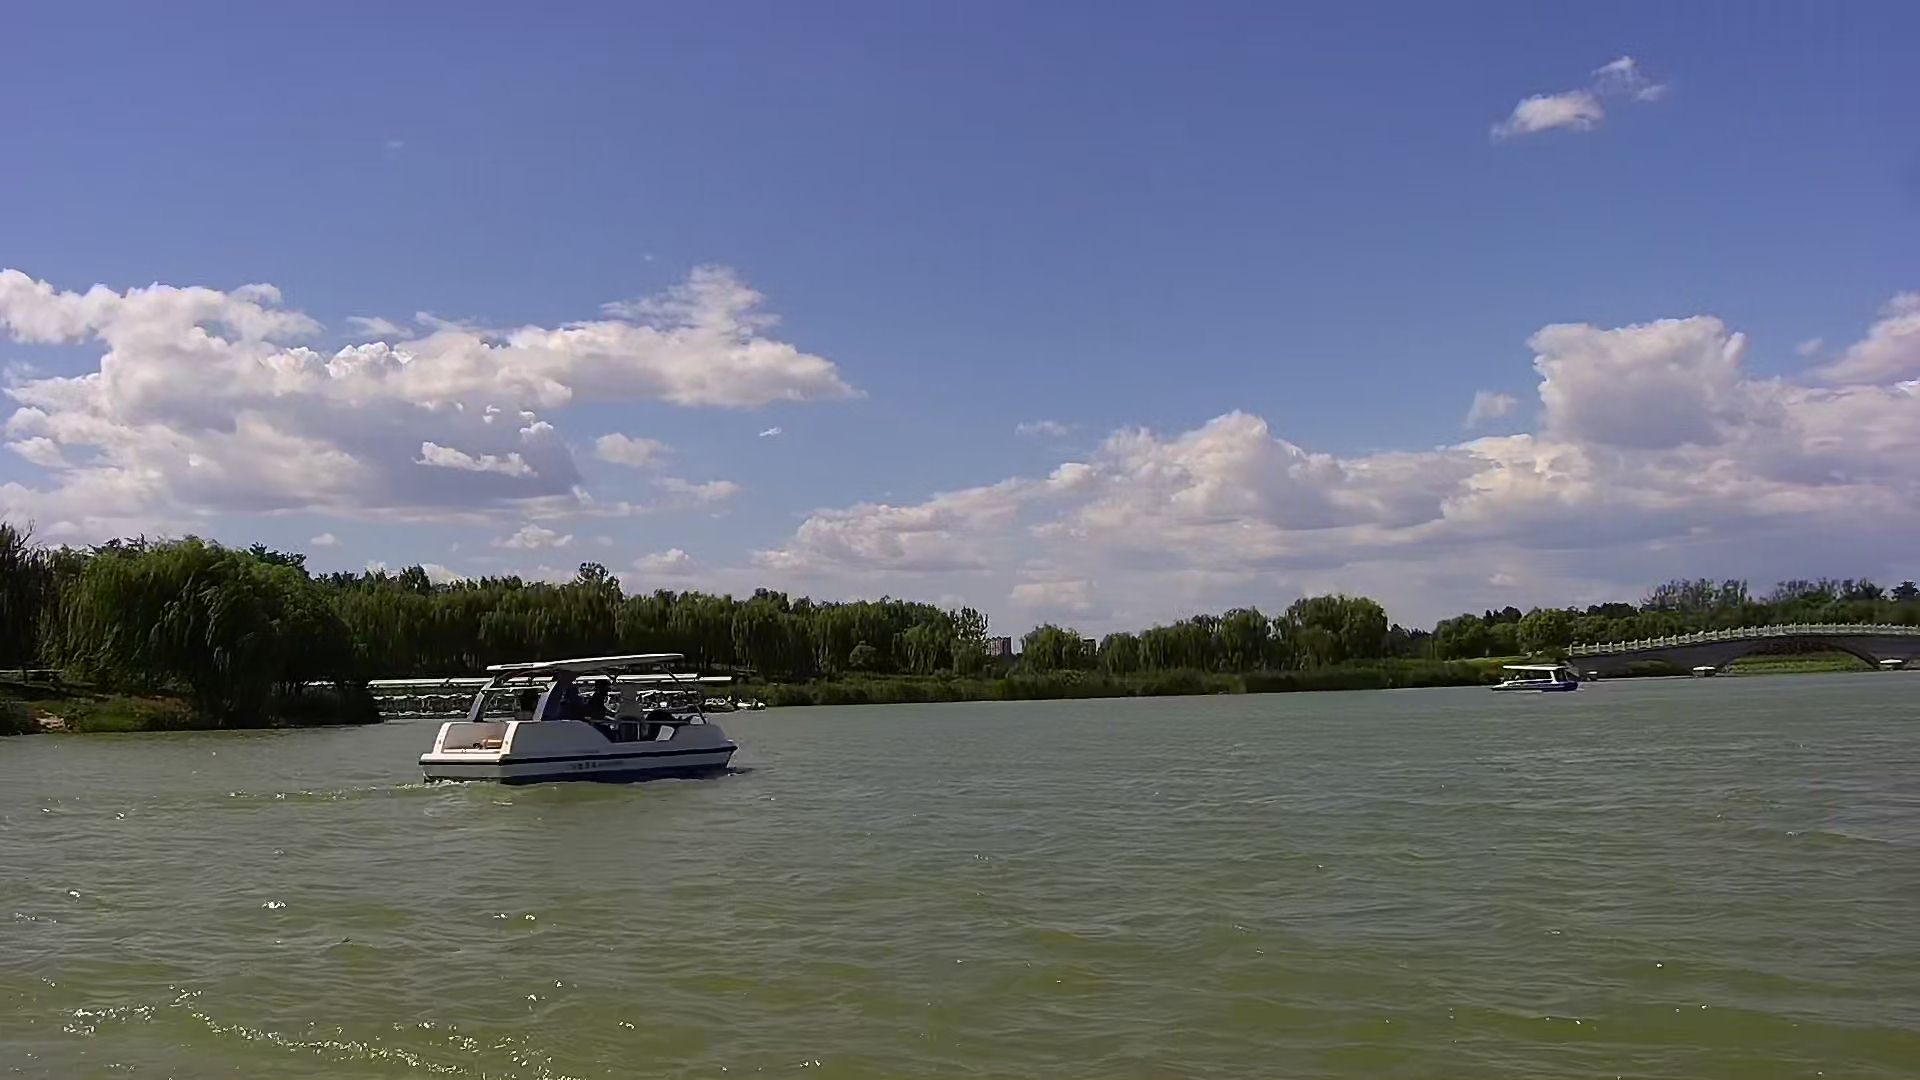boat: (414, 637, 735, 775), (1487, 659, 1584, 695)
bridge: (1654, 632, 1903, 686)
